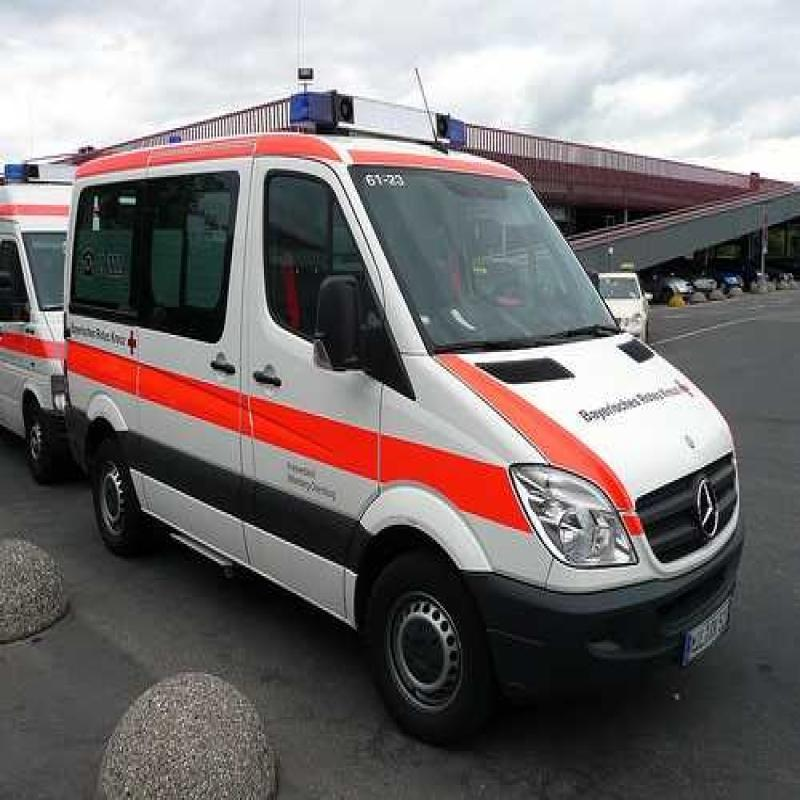AmbulanceSiren: (271, 73, 495, 167)
